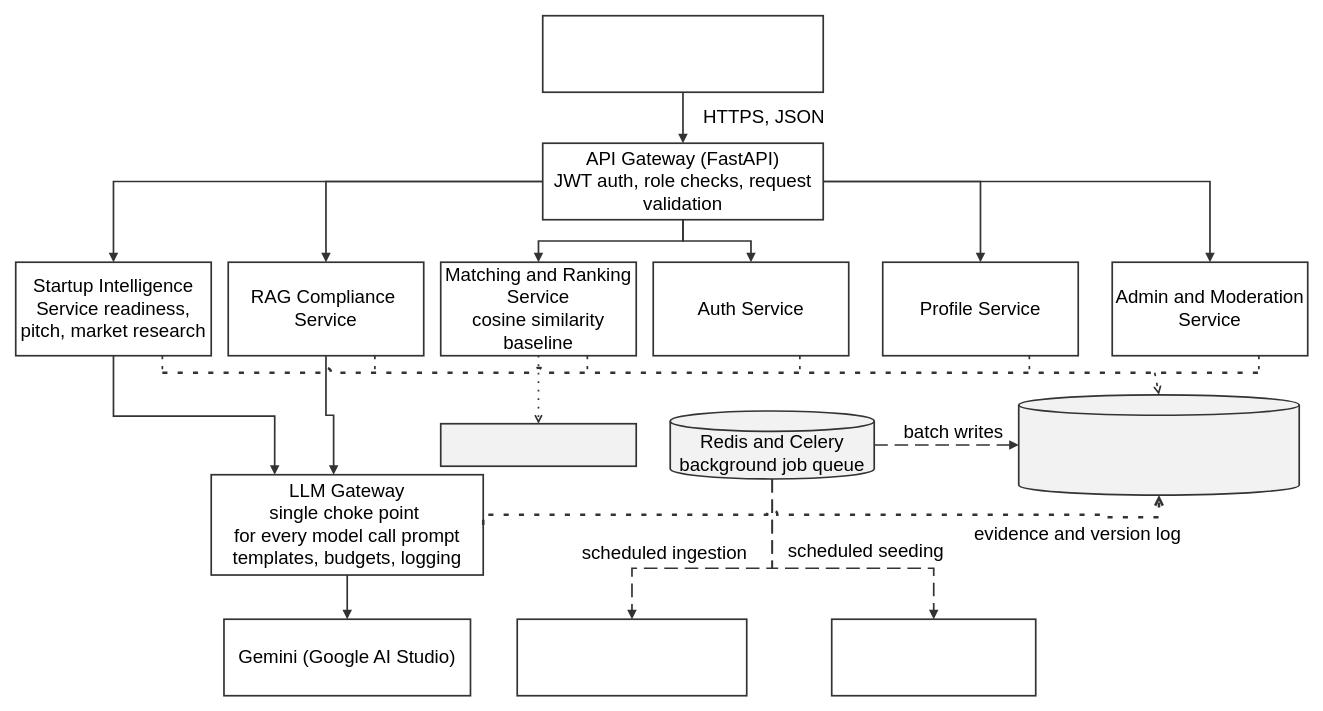
This 1323x711 diagram has some shape labels left out. The box of each missing label's shape, as (x1, y1, x2, y2) in pixels:
Client (Next.js, React) Founder, talent, mentor, investor, admin dashboards: (541, 14, 824, 93)
Firecrawl (hosted API) regulatory and market page retrieval: (516, 618, 747, 696)
Playwright public directory seeding: (830, 618, 1036, 696)
PostgreSQL with pgvector relational data and embeddings, one store: (1017, 394, 1300, 496)
Trained re-ranker: (439, 422, 637, 467)
